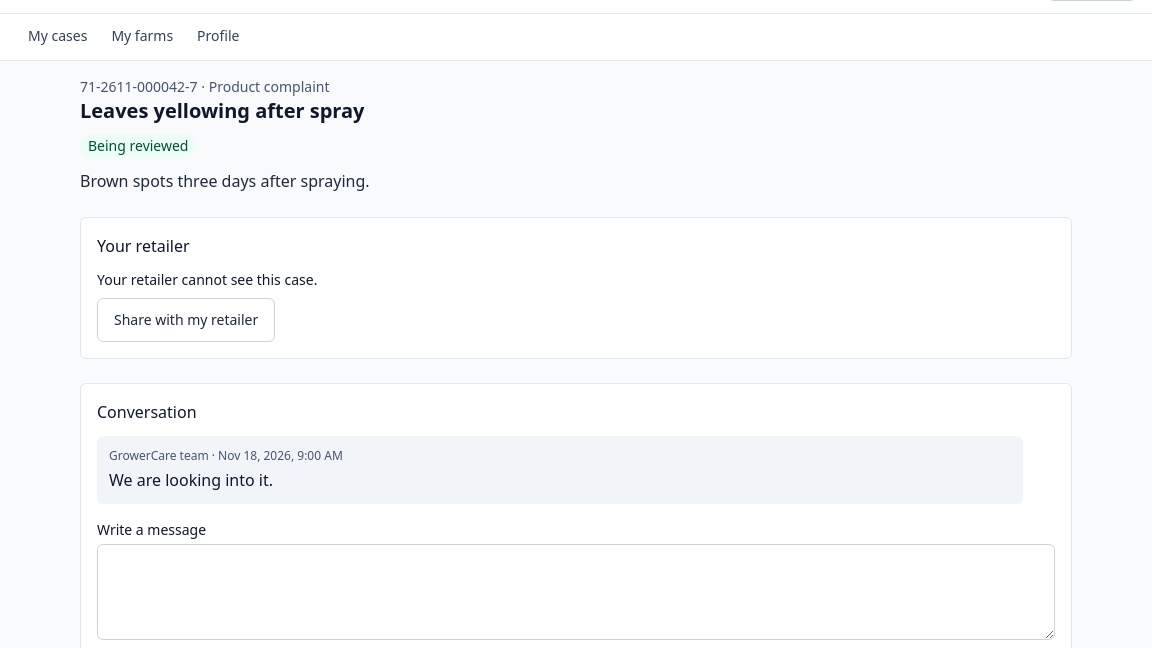
Test: SPEC-FE-02 R107 case detail › FE-E107 a refused comment is rolled back and the text kept
The width and height of the screenshot is (1152, 648).
Step 1. Type "Too late" into the text box labelled "Write a message" → [576, 592], box [97,544,1055,640]
(page scrolled)
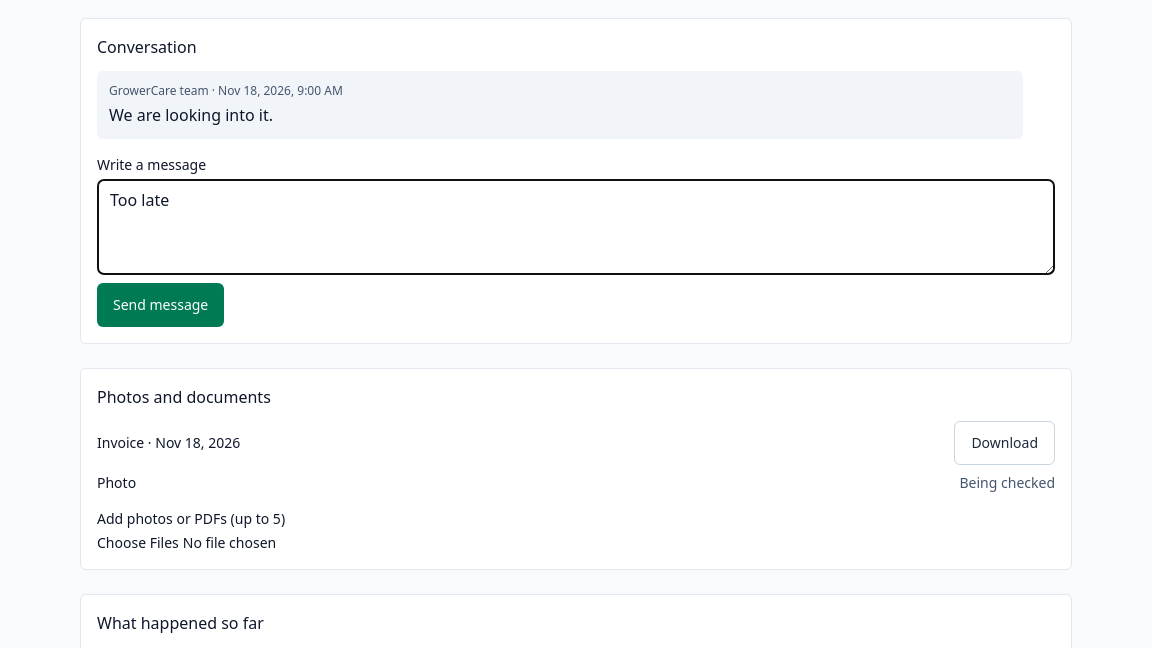
Step 2. Click the button "Send message" → [161, 305], box [97,283,224,327]
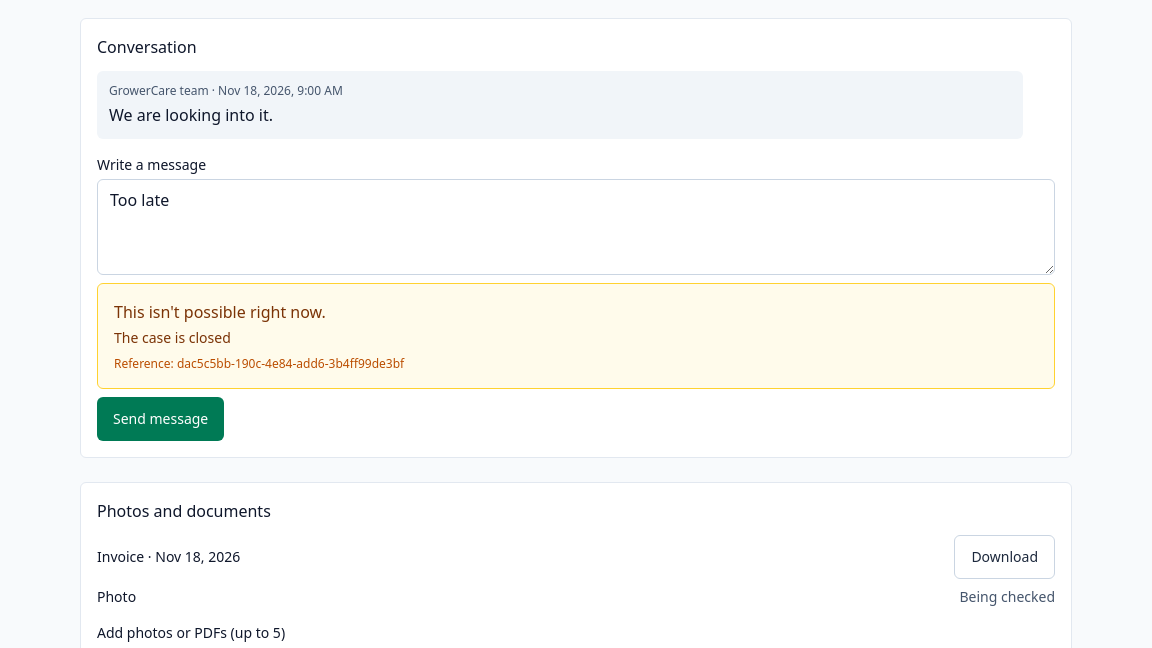
Check: the text "The case is closed" is shown, box [114,328,231,347]
